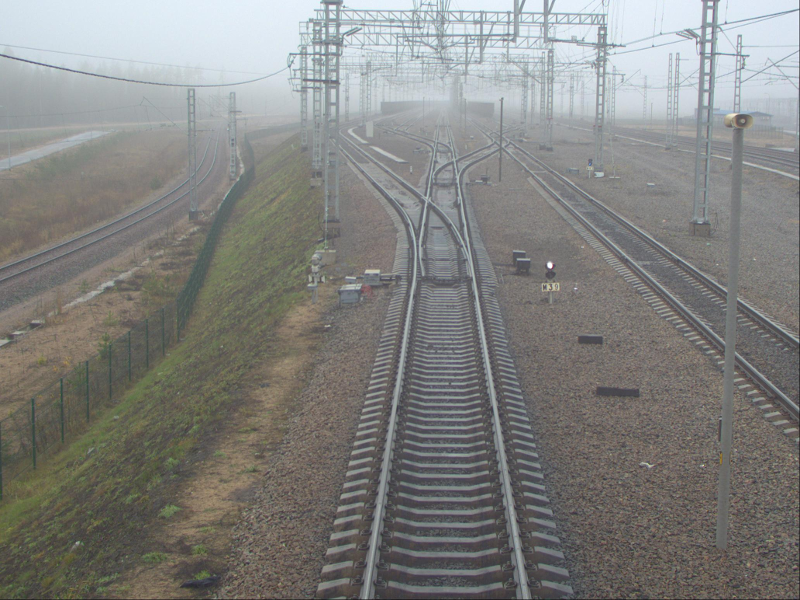left: (415, 198, 468, 280), (430, 159, 461, 185)
